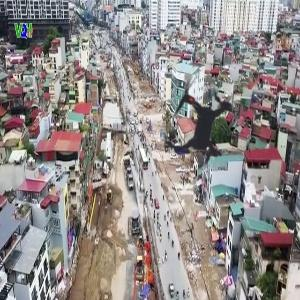drone: (127, 53, 269, 195)
